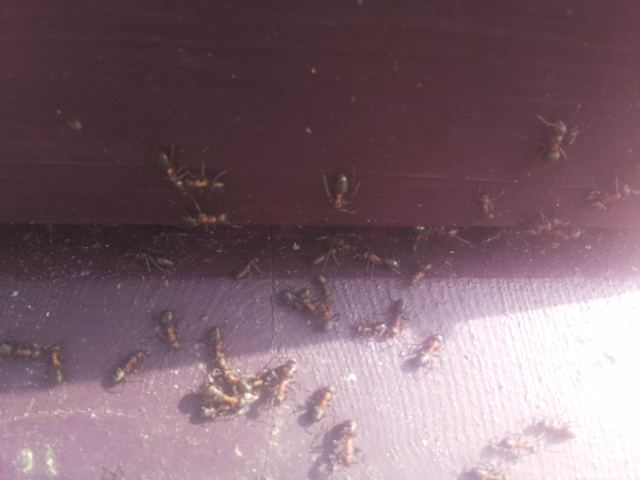ant: (147, 141, 217, 202), (98, 343, 154, 395), (398, 327, 453, 378), (536, 110, 577, 172), (193, 369, 245, 416), (580, 178, 639, 217), (270, 285, 323, 323), (521, 416, 582, 449), (149, 302, 184, 357), (268, 355, 303, 409), (324, 168, 354, 217), (308, 377, 337, 427), (336, 415, 362, 470), (356, 245, 401, 272), (387, 293, 409, 340), (44, 345, 69, 386), (405, 258, 433, 292), (353, 321, 390, 339), (499, 436, 535, 454), (475, 189, 495, 217)
